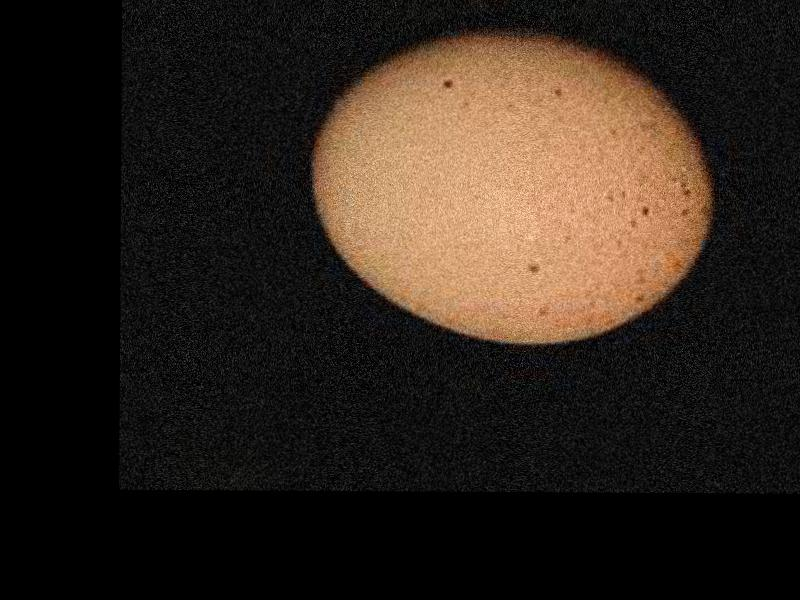Eggs: (310, 26, 711, 344)
